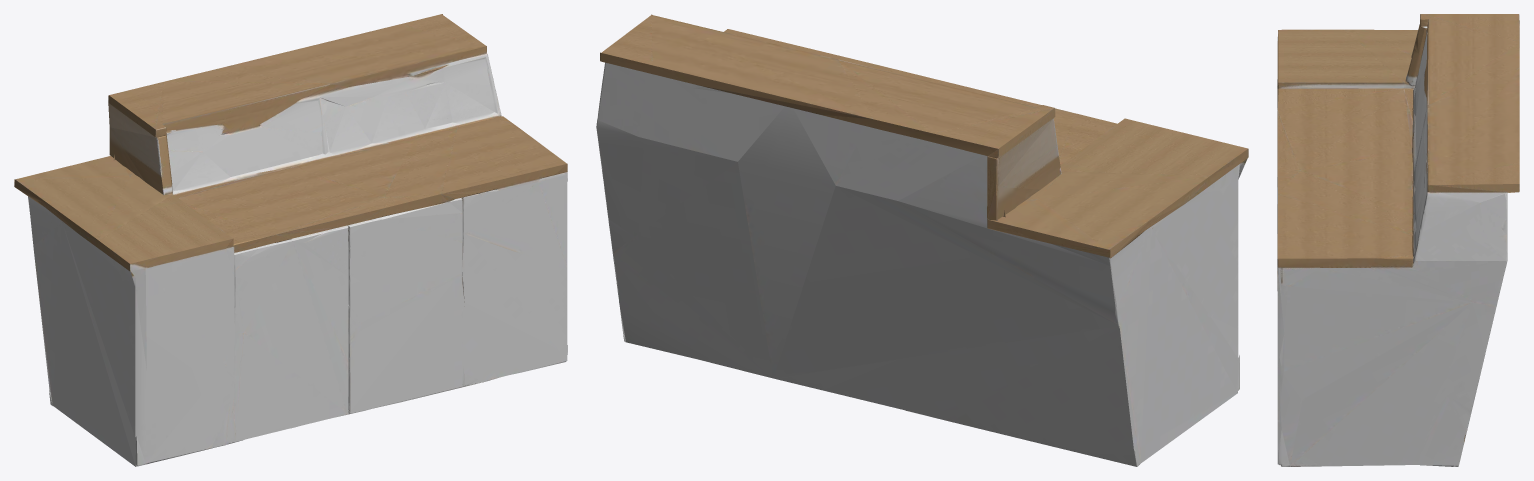
The model's file is reception_desk.glb.
3 views of the same model, side by side, from view 1: azimuth 30°, elevation 25°; view 2: azimuth 150°, elevation 25°; view 3: azimuth 270°, elevation 25° (orthographic). The views are drawn at different scales.
Parts seen in each view (by area): view 1: Mesh_0; view 2: Mesh_0; view 3: Mesh_0.
Boxes of the visible parts, bbox=[...] form: Mesh_0: bbox=[14, 14, 567, 466]; Mesh_0: bbox=[596, 14, 1248, 466]; Mesh_0: bbox=[1277, 14, 1519, 466].
Bounding box in the file's own units: 1.88 × 1.1 × 0.8668.
Materials: 1 (1 with a texture image).
